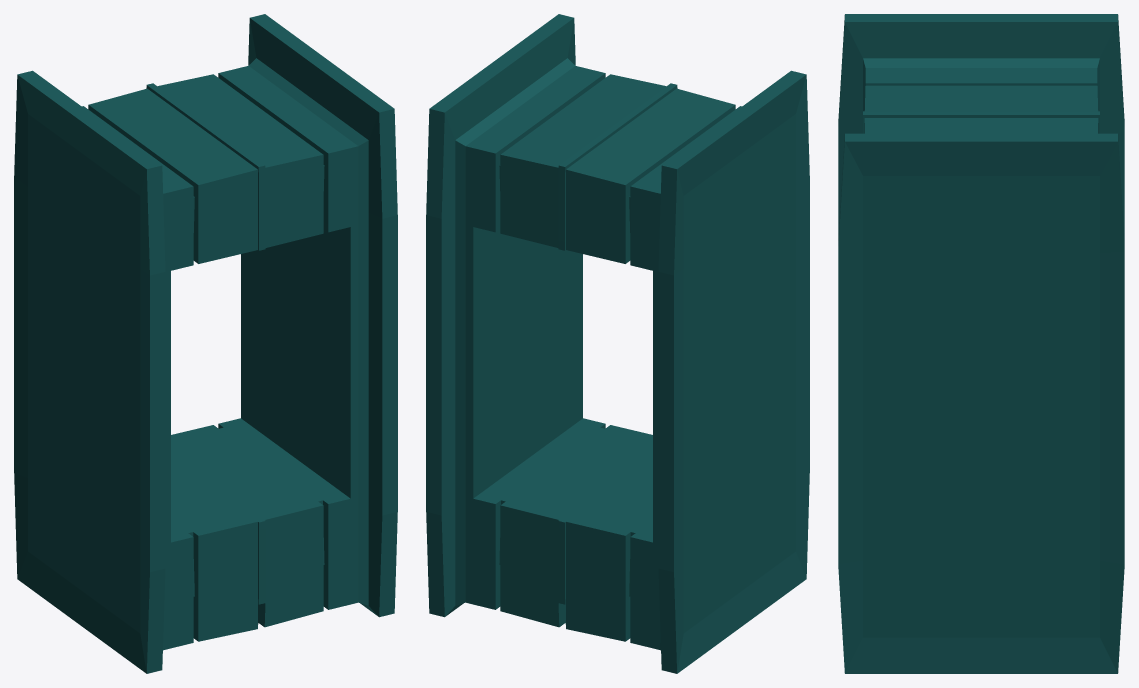
The model's file is Lever Handle 1.fbx.
3 views of the same model, side by side, from view 1: azimuth 30°, elevation 25°; view 2: azimuth 150°, elevation 25°; view 3: azimuth 270°, elevation 25° (orthographic). The views are drawn at different scales.
Visible parts, largest first — view 1: Cube; view 2: Cube; view 3: Cube.
Part boxes in pixels (bbox=[...]): Cube: bbox=[14, 14, 397, 673]; Cube: bbox=[426, 14, 809, 673]; Cube: bbox=[838, 14, 1124, 673].
Bounding box in the file's own units: 133 × 259 × 127.
